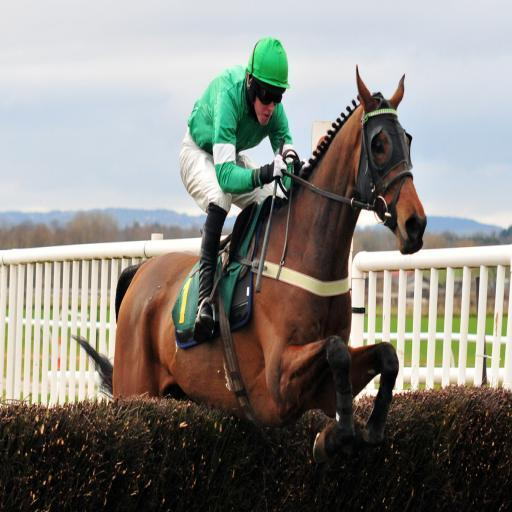horse: (72, 67, 426, 463)
